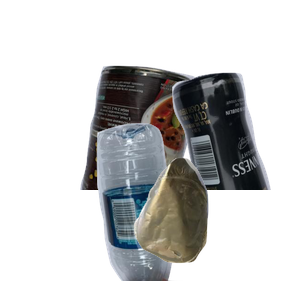glass: (106, 70, 300, 250)
metal: (78, 63, 266, 243)
plastic: (94, 120, 267, 300)
trash: (131, 155, 300, 300)
